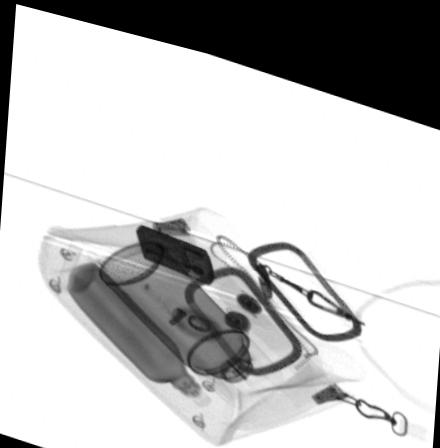Lighter: (135, 216, 214, 273)
Sprayer: (97, 232, 283, 397)
